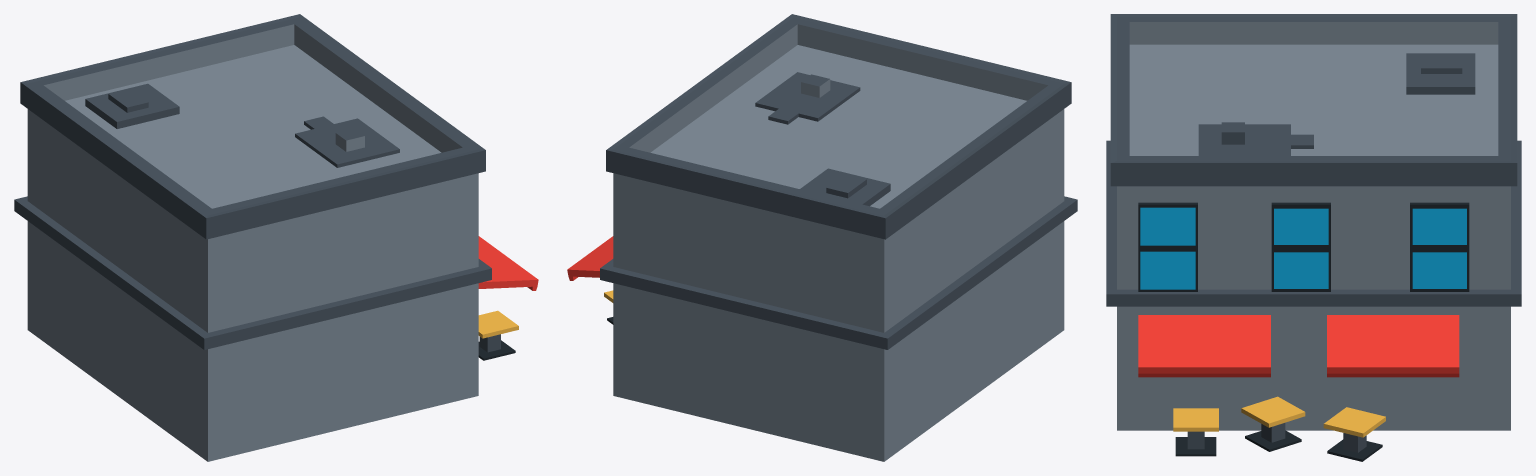
The model's file is Building1.fbx.
3 views of the same model, side by side, from view 1: azimuth 30°, elevation 25°; view 2: azimuth 150°, elevation 25°; view 3: azimuth 270°, elevation 25° (orthographic). The views are drawn at different scales.
Visible parts, largest first — view 1: Cube, Cube.001; view 2: Cube; view 3: Cube, Cube.002, Cube.003, Cube.001.
Boxes of the visible parts, left/top/right/bottom form: Cube: left=14, top=14, right=538, bottom=461; Cube.001: left=478, top=310, right=518, bottom=360; Cube: left=567, top=14, right=1077, bottom=461; Cube: left=1106, top=14, right=1521, bottom=430; Cube.002: left=1241, top=396, right=1305, bottom=451; Cube.003: left=1323, top=407, right=1385, bottom=461; Cube.001: left=1173, top=408, right=1218, bottom=456.
Size of the model in its own units: 263 by 174 by 243.
